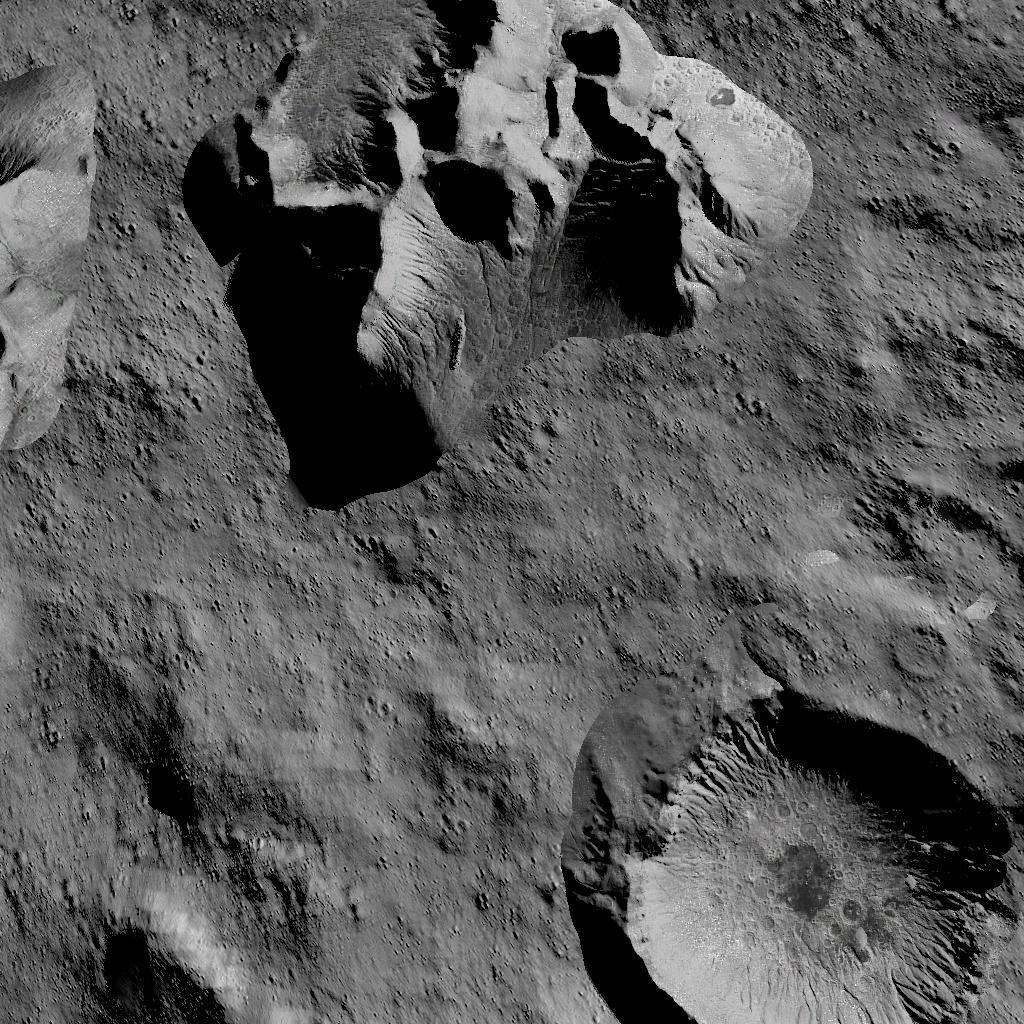Boulders: (180, 0, 826, 508), (75, 680, 318, 880), (0, 52, 100, 462)
Crater: (552, 613, 1024, 1024), (0, 911, 322, 1018)
Plan surface: (29, 524, 537, 662), (348, 683, 536, 1024)
